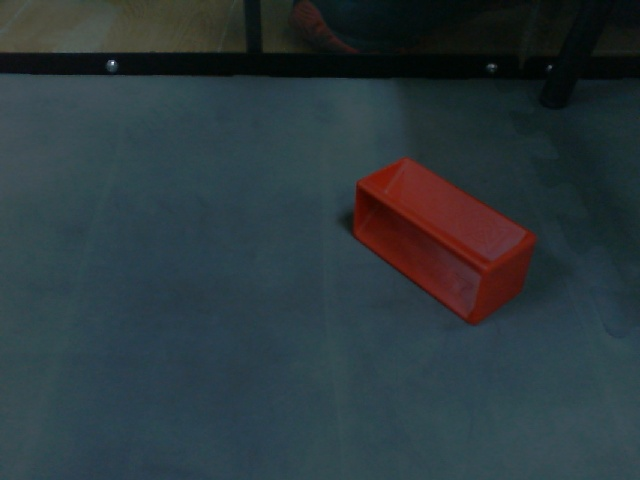RedSample: (349, 154, 541, 328)
